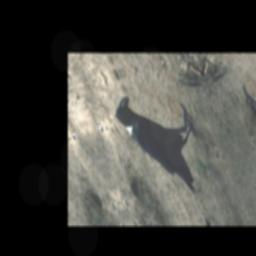Crow: (107, 82, 224, 207)
